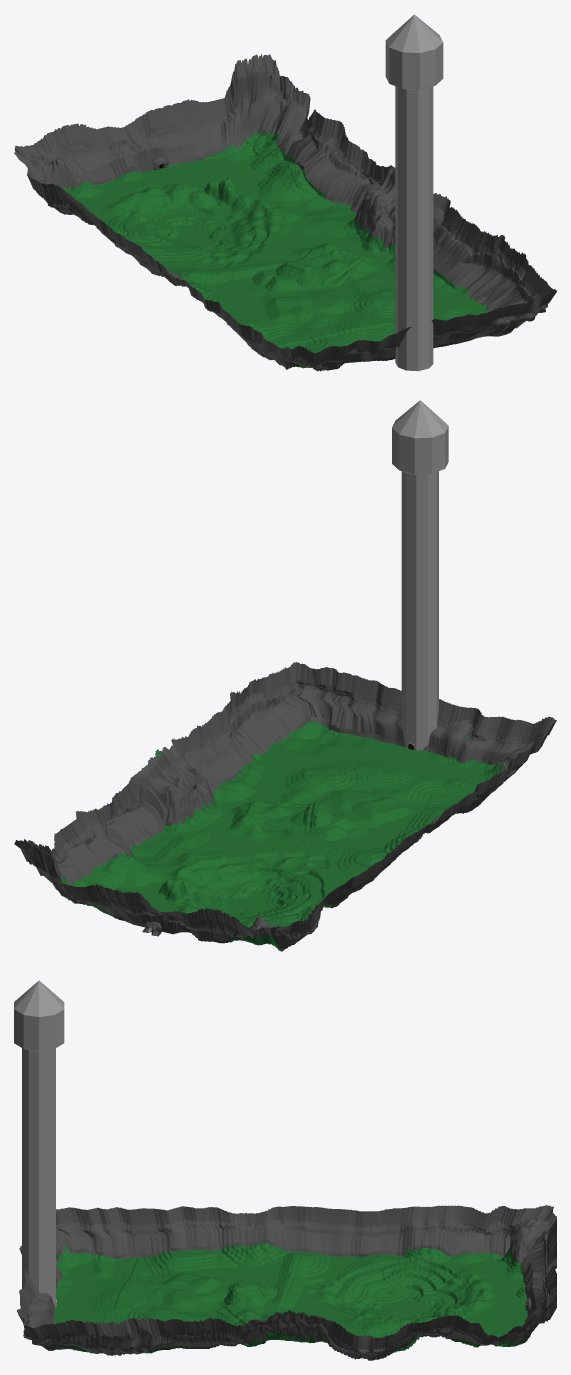
The model's file is fullmap1.fbx.
3 views of the same model, one above another, from view 1: azimuth 30°, elevation 25°; view 2: azimuth 150°, elevation 25°; view 3: azimuth 270°, elevation 25° (orthographic). The views are drawn at different scales.
Parts seen in each view (by area): view 1: pPlane2, pPlane1, pCylinder1; view 2: pPlane1, pPlane2, pCylinder1; view 3: pPlane2, pPlane1, pCylinder1.
Part boxes in pixels (x1,y1,x2,y2): pPlane2: (14, 54, 395, 285); pPlane1: (150, 193, 556, 371); pCylinder1: (385, 14, 443, 371); pPlane1: (160, 662, 556, 859); pPlane2: (14, 749, 419, 951); pCylinder1: (392, 400, 448, 750); pPlane2: (287, 1205, 556, 1360); pPlane1: (17, 1206, 286, 1355); pCylinder1: (14, 980, 64, 1307).
Size of the model in its own units: 0.3018 by 0.364 by 0.5311.
